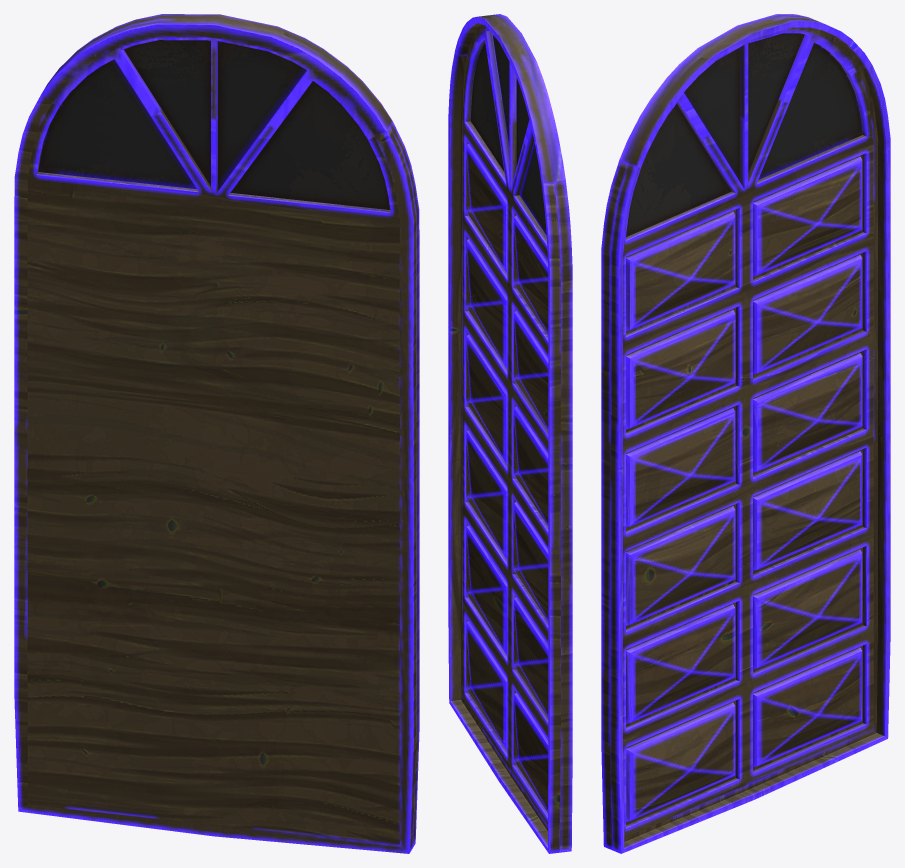
File: puerta.glb
3 renders of one model, left to right at view 1: azimuth 30°, elevation 25°; view 2: azimuth 150°, elevation 25°; view 3: azimuth 270°, elevation 25°, orthographic. The views are drawn at different scales.
Parts seen in each view (by area): view 1: puerta; view 2: puerta; view 3: puerta.
Boxes of the visible parts, x1,y1,x2,y2 form: puerta: (14,14,419,853); puerta: (448,14,572,853); puerta: (601,14,890,853).
Size of what is drawn, in the model's own units: 2.01 by 5.77 by 1.97.
Materials: 1 (1 with a texture image).
